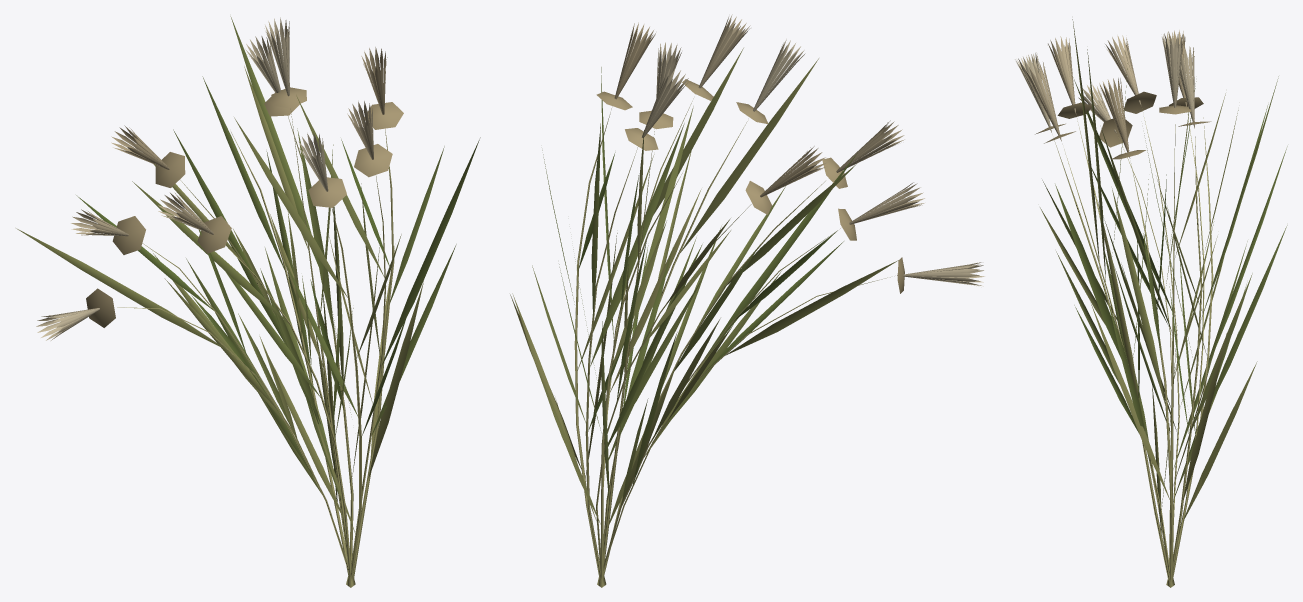
The model's file is plume-grass.glb.
3 renders of one model, left to right at view 1: azimuth 30°, elevation 25°; view 2: azimuth 150°, elevation 25°; view 3: azimuth 270°, elevation 25°, orthographic. The views are drawn at different scales.
Visible parts, largest first — view 1: plume-grass; view 2: plume-grass; view 3: plume-grass.
Part boxes in pixels (left/top/right/bottom): plume-grass: left=16, top=16, right=480, bottom=587; plume-grass: left=510, top=14, right=984, bottom=587; plume-grass: left=1015, top=19, right=1287, bottom=587.
Size of the model in its own units: 1.07 by 1.37 by 0.6532.
